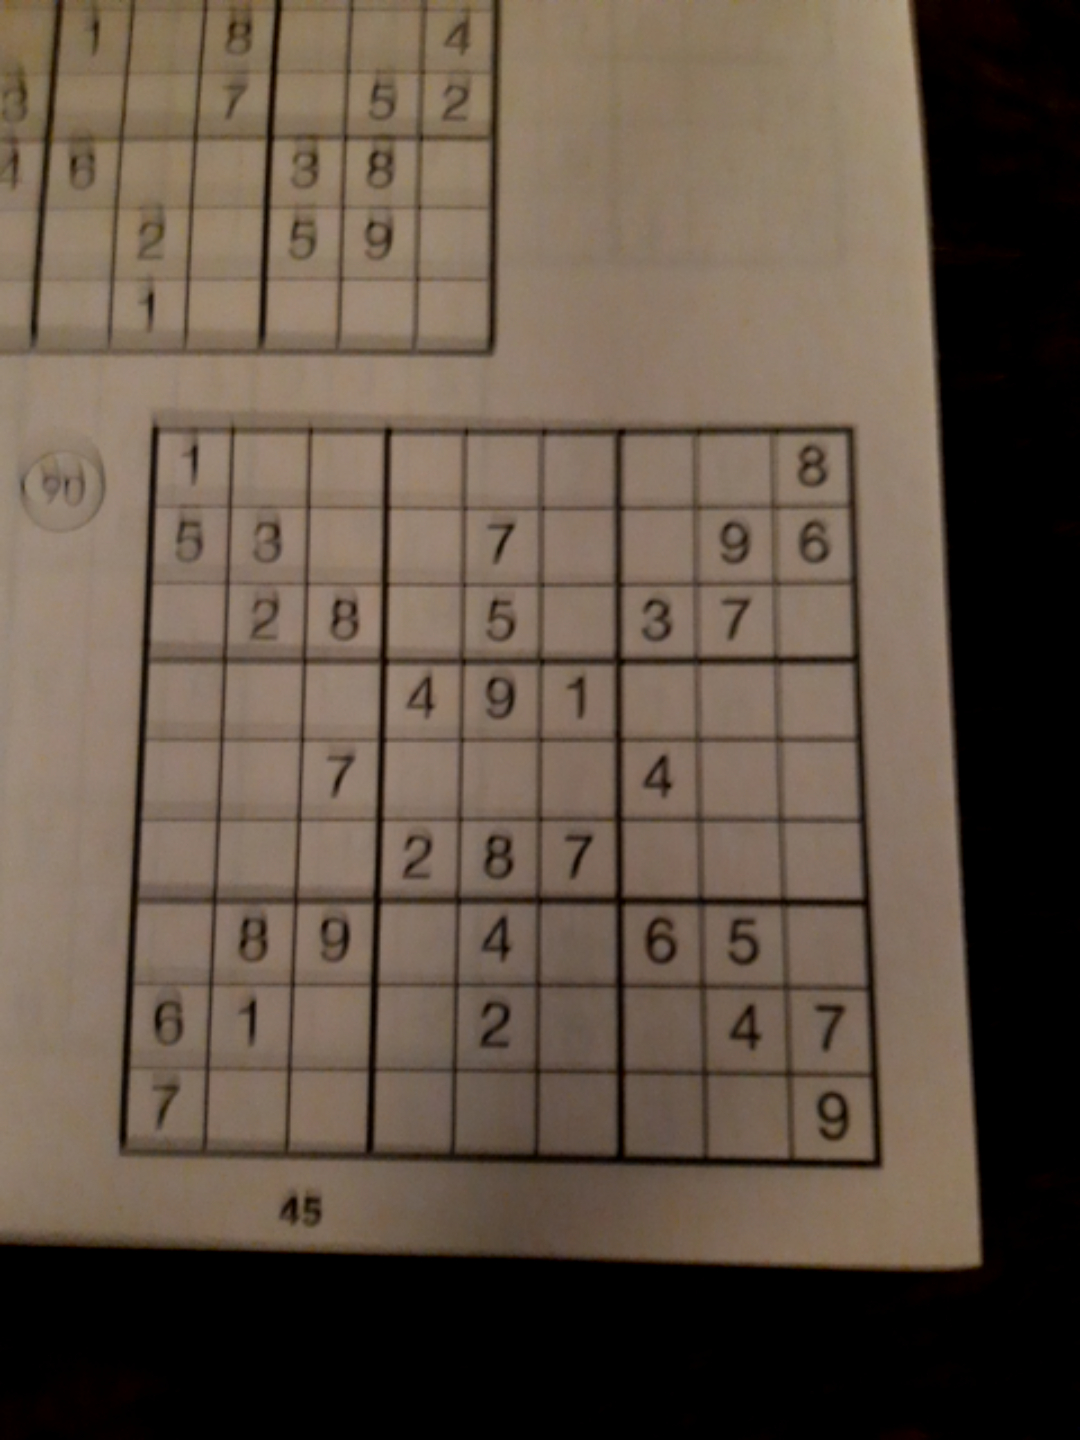sudoku: (114, 422, 886, 1170)
